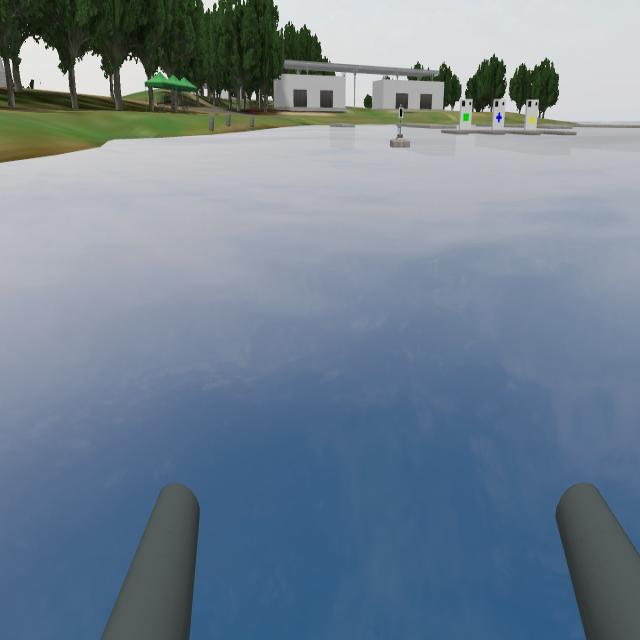black_pole: (395, 100, 407, 134)
